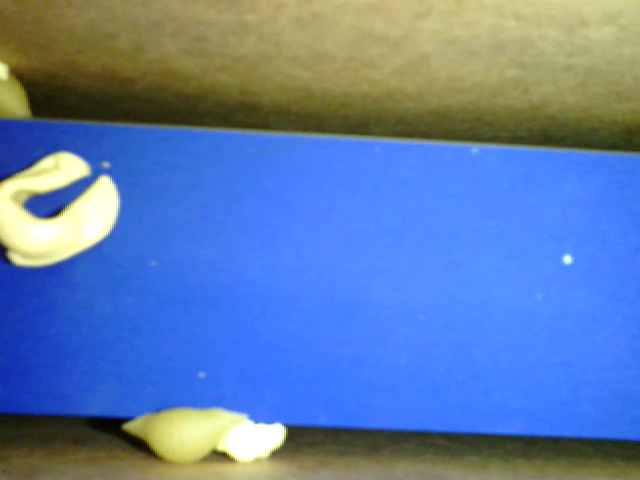shell: (118, 404, 250, 465)
tortellini: (1, 151, 123, 270)
